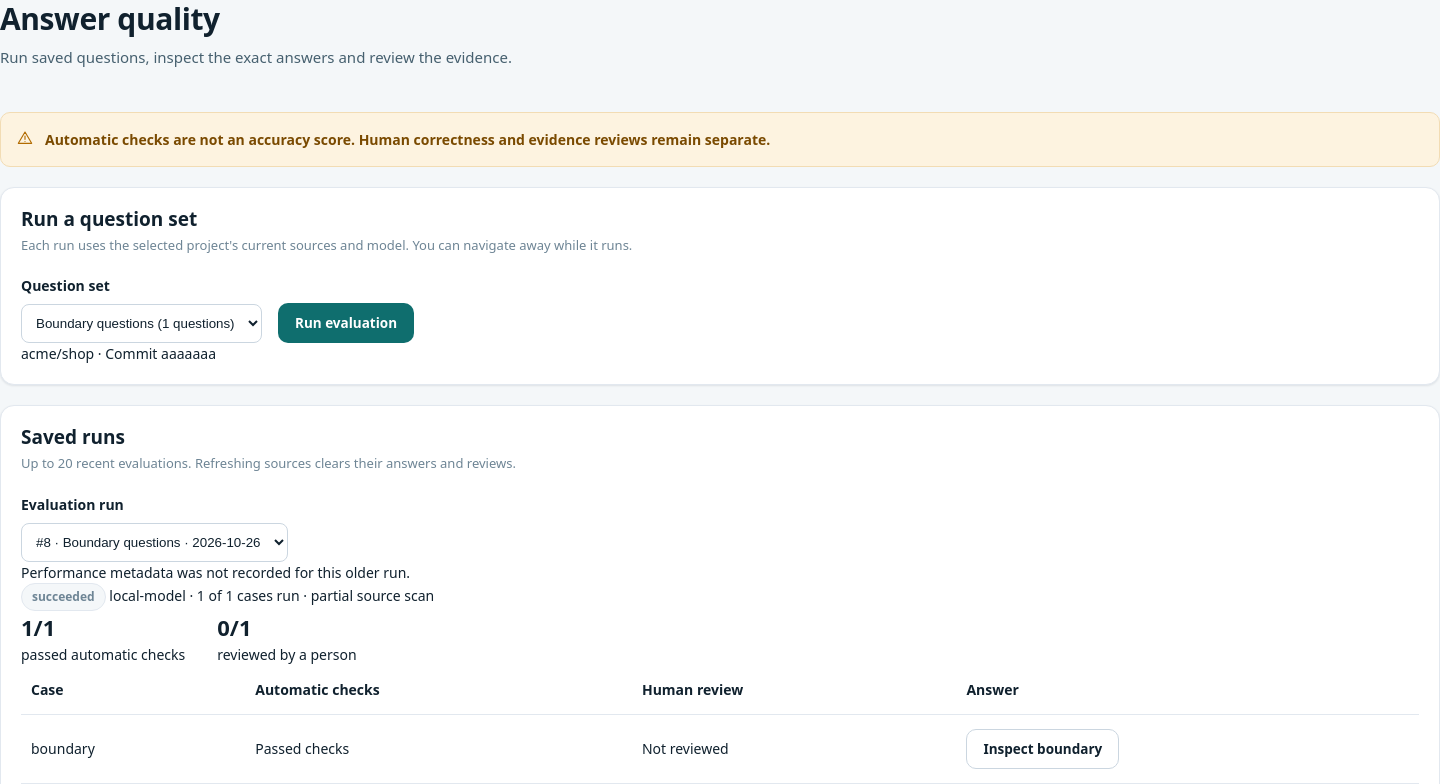
Scenario: starts a background job and prevents starts for mismatched scope or busy service
This screenshot has width=1440, height=784.
Click the button "Run evaluation" at (346, 323), box x1=278 y1=303 x2=414 y2=343
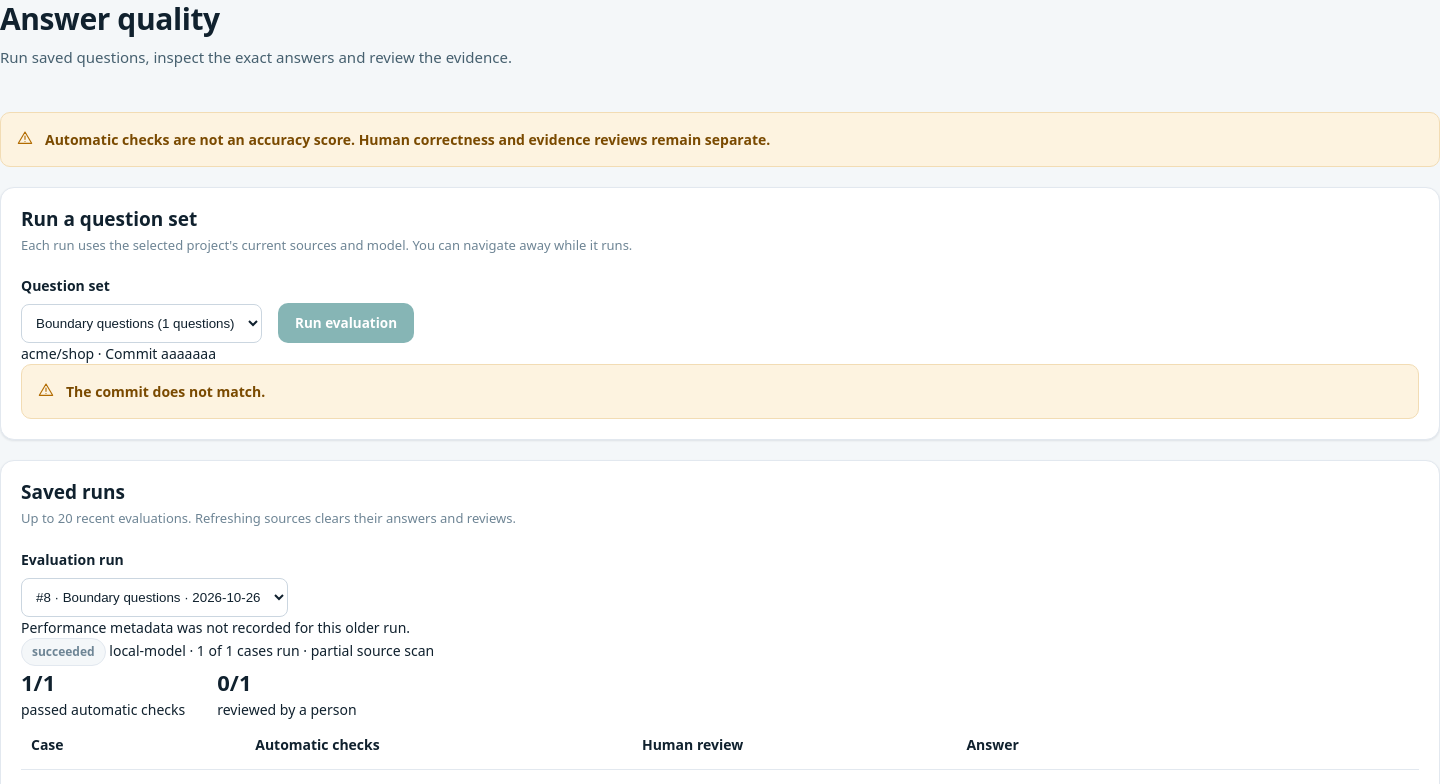
Check: the button "Run evaluation" is disabled, box x1=278 y1=303 x2=414 y2=343
Check: the text "The commit does not match." is shown, box x1=66 y1=381 x2=265 y2=402
